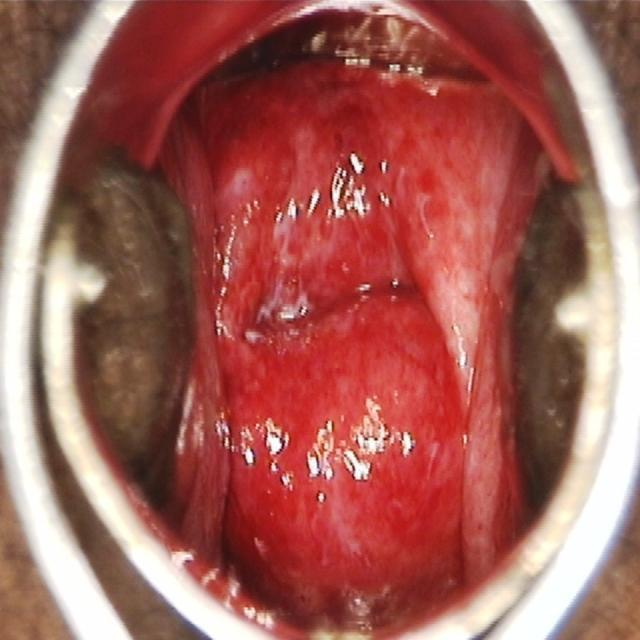cervical_lesion: (168, 121, 505, 564)
